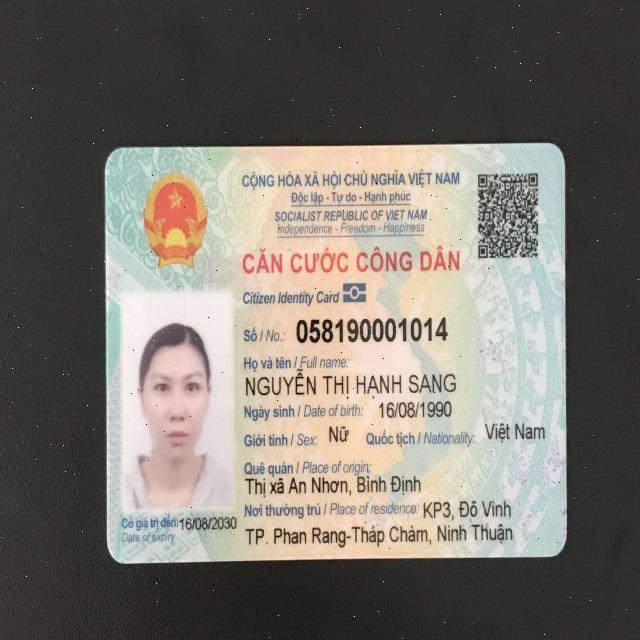current_place: (243, 522, 514, 550), (419, 497, 514, 523)
dob: (377, 398, 452, 424)
expire_date: (181, 513, 238, 533)
gender: (327, 420, 353, 444)
id: (294, 317, 451, 343)
name: (241, 365, 456, 398)
nationality: (480, 418, 551, 448)
origin_place: (242, 473, 424, 496)
qr: (472, 168, 545, 266)
